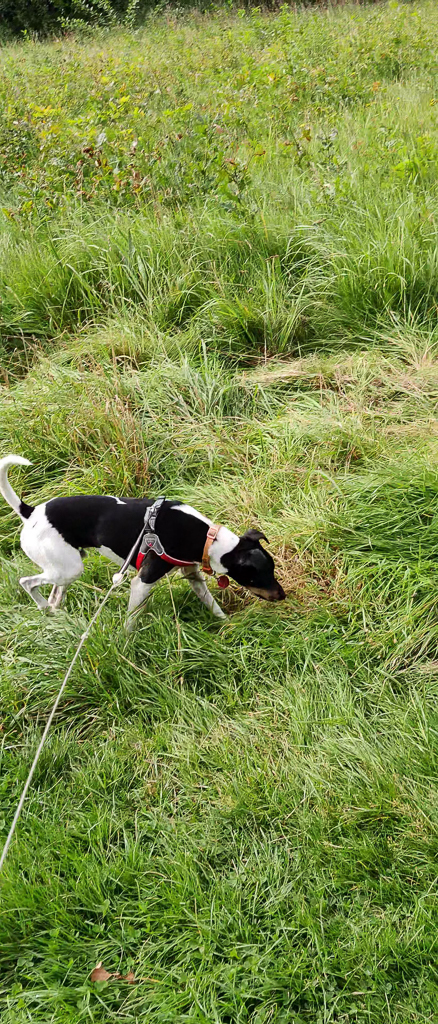Dog: (0, 442, 312, 640)
